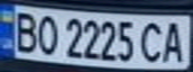2: (60, 15, 84, 60), (78, 16, 100, 61), (100, 17, 121, 62)
5: (115, 17, 139, 63)
A: (160, 18, 190, 63)
B: (9, 8, 42, 53)
C: (136, 19, 166, 64)
O: (33, 12, 60, 56)
